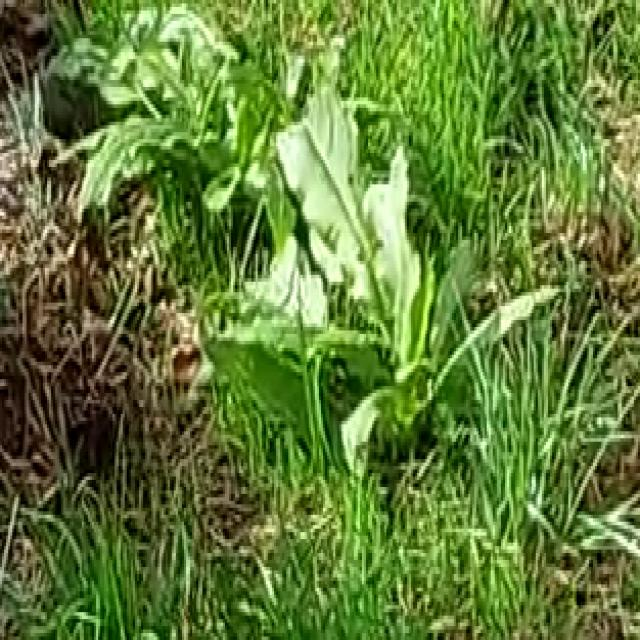organic waste: (155, 32, 597, 526)
